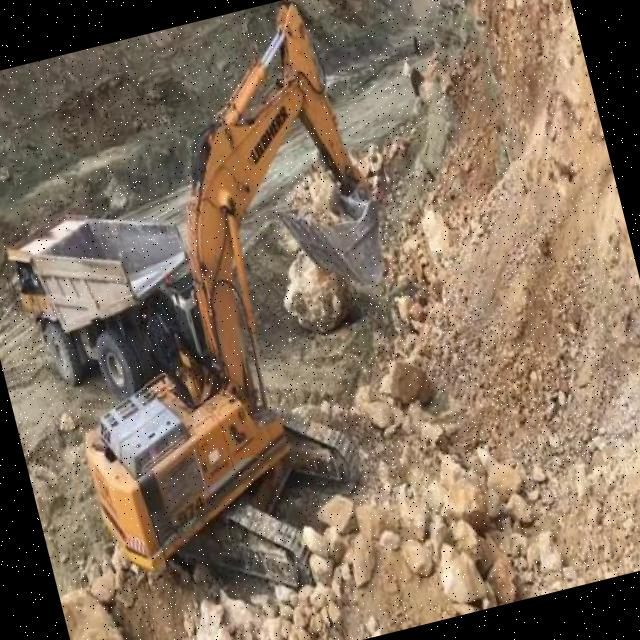Dump Truck: (1, 191, 218, 415)
Excavator: (0, 0, 461, 640)
